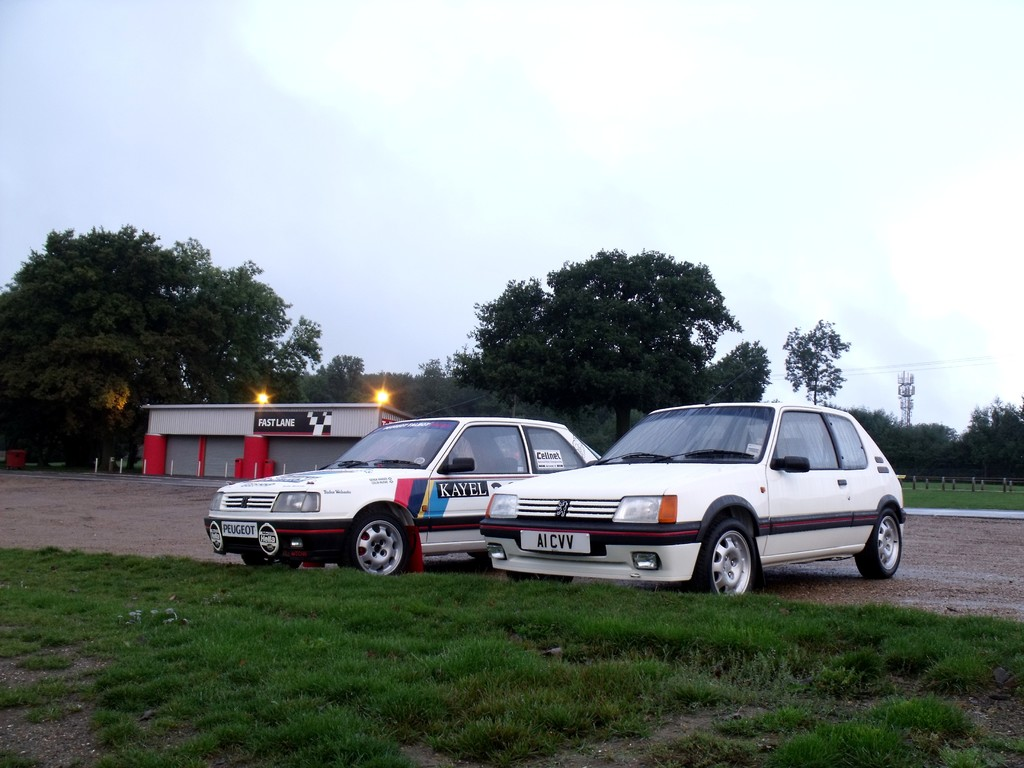Car: (480, 403, 906, 598), (203, 418, 602, 571)
